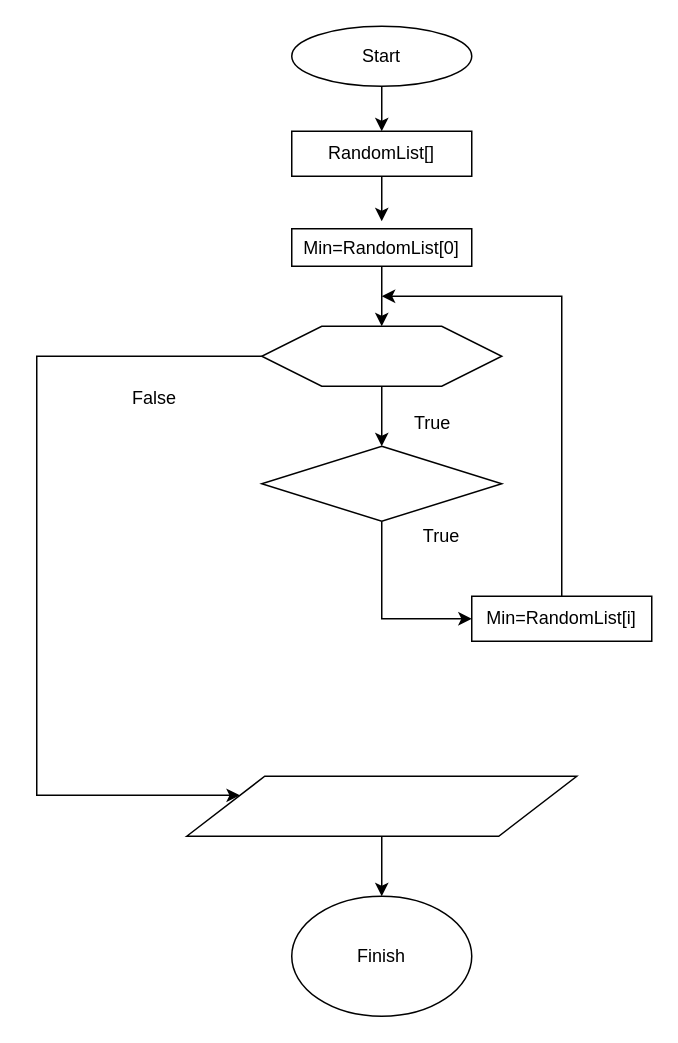
Some shapes in this 678 by 1043 pixel diagram are drawn without their labels. The shapes that lost their labels are listed below. From the top down, each one's box as (x1, y1, x2, y2) in pixels, then its label:
(260, 325, 502, 386): i=0 .. len(RandomList)-1
(260, 445, 502, 521): Min>RandomList[i]
(185, 775, 577, 836): Print(str(Min))
